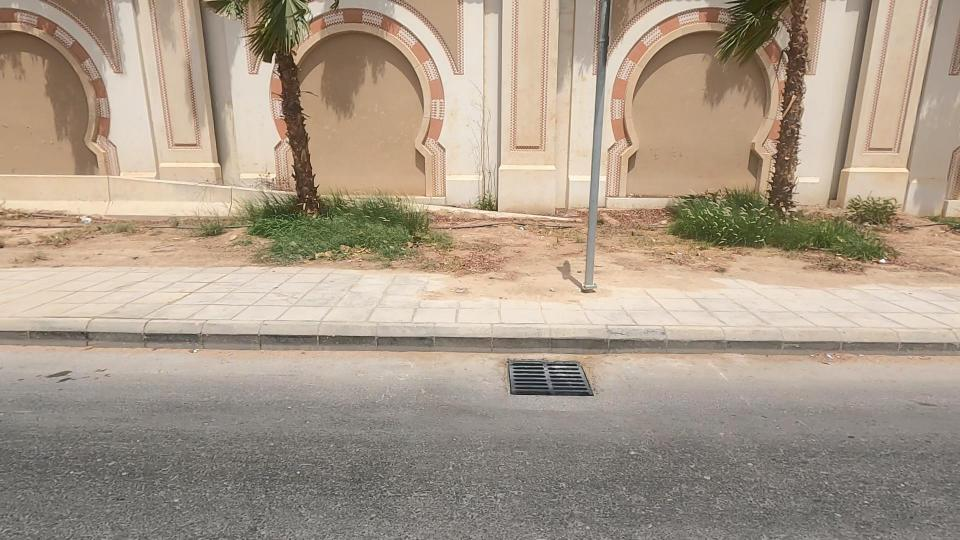CLUTTER_SIDEWALK: (324, 170, 763, 318), (0, 171, 291, 299)
